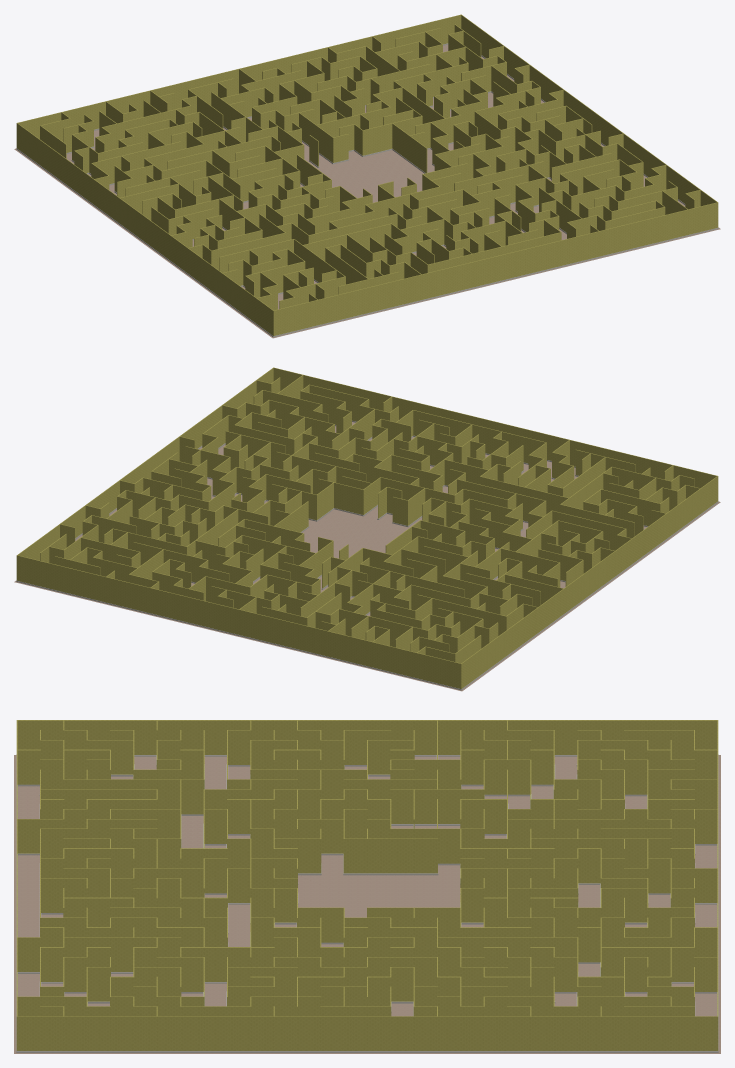
File: Backroom_Maze.glb
The picture shows the model from 3 angles, top to bottom: view 1: azimuth 30°, elevation 25°; view 2: azimuth 150°, elevation 25°; view 3: azimuth 270°, elevation 25°; orthographic projection. The views are drawn at different scales.
Parts seen in each view (by area): view 1: Maze_2938742934792437, Floor, Baseboard_2938742934792437; view 2: Maze_2938742934792437, Floor, Baseboard_2938742934792437; view 3: Maze_2938742934792437, Floor, Baseboard_2938742934792437.
Boxes of the visible parts, bbox=[...] form: Maze_2938742934792437: bbox=[16, 14, 718, 335]; Floor: bbox=[14, 44, 720, 338]; Baseboard_2938742934792437: bbox=[16, 43, 718, 337]; Maze_2938742934792437: bbox=[16, 367, 718, 688]; Floor: bbox=[14, 422, 720, 691]; Baseboard_2938742934792437: bbox=[16, 420, 718, 690]; Maze_2938742934792437: bbox=[16, 720, 718, 1050]; Floor: bbox=[14, 755, 720, 1053]; Baseboard_2938742934792437: bbox=[16, 754, 718, 1052].
Size of the model in its own units: 142 by 8 by 142.
Materials: 3 (3 with a texture image).
